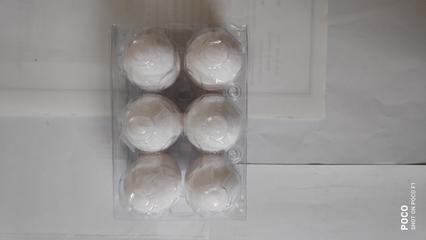eggs: (108, 18, 253, 228)
